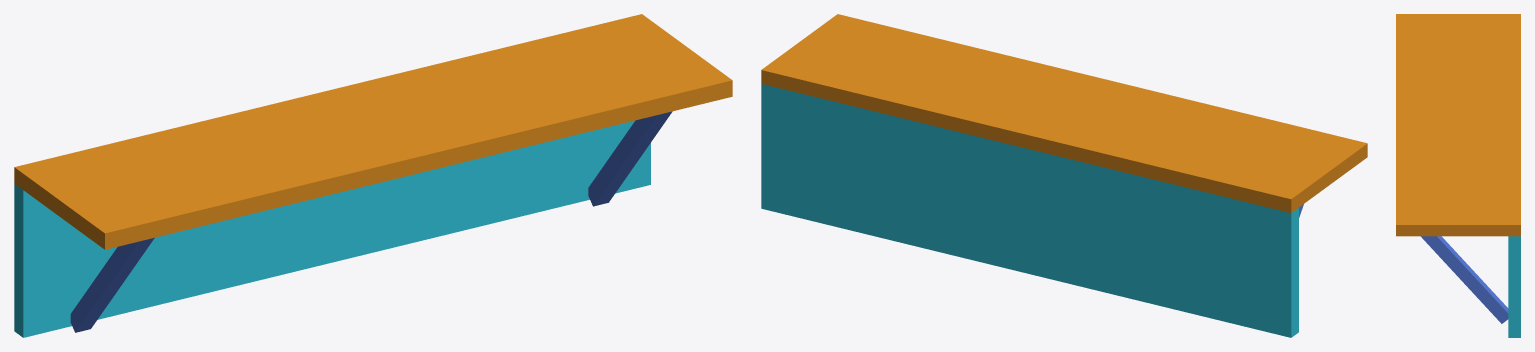
Rendered from table1_2_4m_1m_1m.fbx.
3 renders of one model, left to right at view 1: azimuth 30°, elevation 25°; view 2: azimuth 150°, elevation 25°; view 3: azimuth 270°, elevation 25°, orthographic. The views are drawn at different scales.
Visible parts, largest first — view 1: Cube, Cube.001, Cube.003, Cube.002; view 2: Cube.001, Cube; view 3: Cube, Cube.002, Cube.001.
Boxes of the visible parts, bbox=[...] form: Cube: bbox=[14, 14, 732, 249]; Cube.001: bbox=[14, 120, 650, 337]; Cube.003: bbox=[70, 237, 154, 332]; Cube.002: bbox=[588, 111, 672, 206]; Cube.001: bbox=[761, 84, 1298, 337]; Cube: bbox=[761, 14, 1367, 212]; Cube: bbox=[1396, 14, 1520, 236]; Cube.002: bbox=[1421, 236, 1508, 323]; Cube.001: bbox=[1508, 236, 1520, 337].
Bounding box in the file's own units: 400 × 102 × 100.
